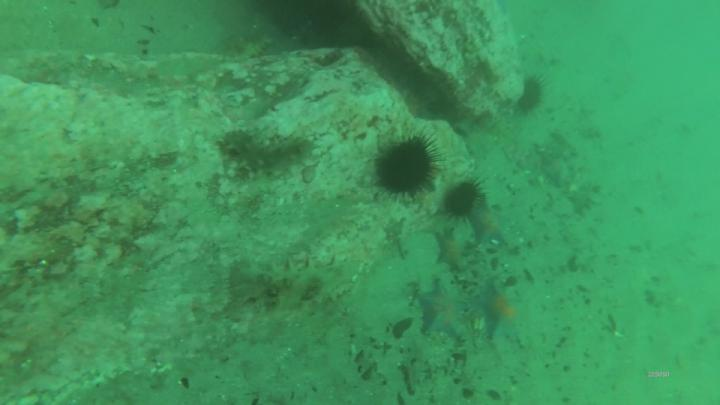echinus: (374, 132, 447, 205), (442, 177, 489, 222), (517, 76, 550, 116)
holothurian: (230, 253, 360, 313), (216, 127, 319, 183), (235, 35, 277, 61)
starfish: (471, 278, 528, 347), (416, 277, 469, 344), (468, 208, 515, 253), (434, 225, 469, 277)
